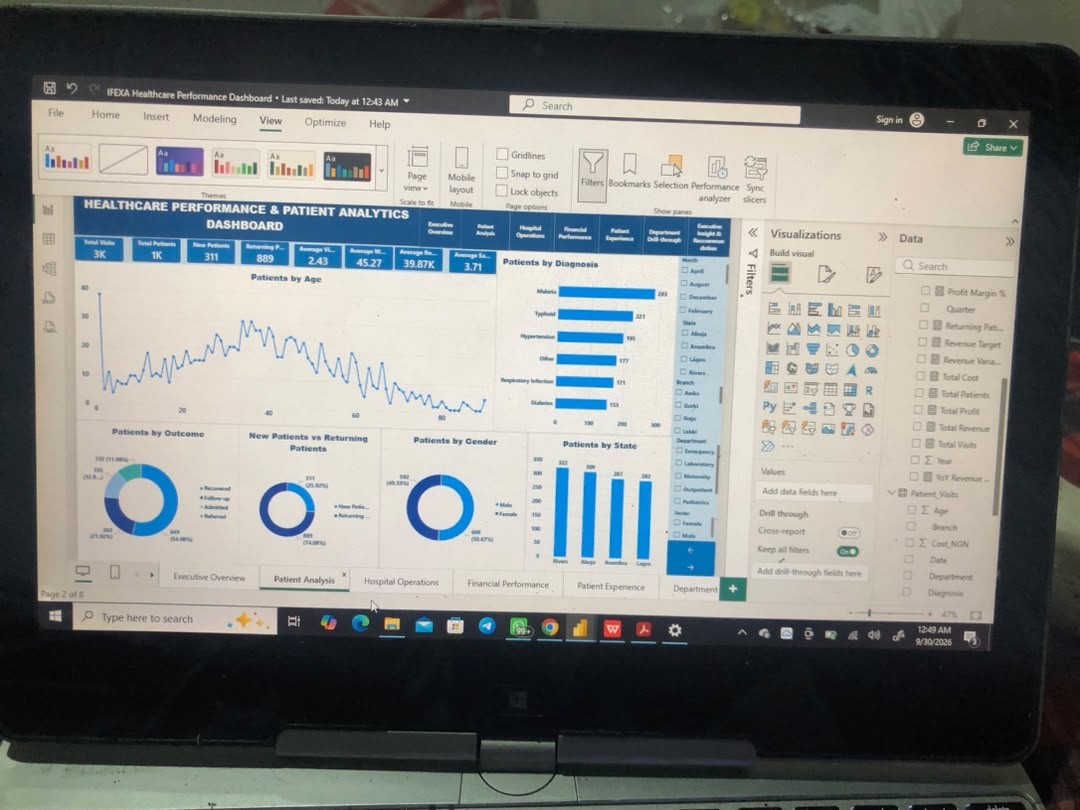

The dashboard page shown, as its layout file describes it:
{"tool":"powerbi","page":{"name":"Patient Analysis","canvas":[1920,1080],"ordinal":1},"visuals":[{"type":"lineChart","title":" Patients by Age","fields":{"Category":["Patient_Visits.Age"],"Y":["Date_Table.Total Patients"]},"box":[0,187.5,1232.5,467.5],"z":0},{"type":"donutChart","title":"Patients by Gender","fields":{"Category":["Patient_Visits.Gender"],"Y":["Date_Table.Total Patients"]},"box":[899.3,654.8,438,425.2],"z":1000},{"type":"clusteredBarChart","title":"Patients by Diagnosis","fields":{"Category":["Patient_Visits.Diagnosis"],"Y":["Date_Table.Total Patients"]},"box":[1232.5,115,540,540],"z":2000},{"type":"clusteredColumnChart","title":"Patients by State","fields":{"Category":["Patient_Visits.State"],"Y":["Date_Table.Total Patients"]},"box":[1337.2,654.8,435.8,425.2],"z":3000},{"type":"donutChart","title":"New Patients vs Returning Patients","fields":{"Y":["Date_Table.New Patients","Date_Table.Returning Patients"]},"box":[469.8,654.8,429.4,425.2],"z":4000},{"type":"cardVisual","fields":{"Data":["Date_Table.Average Visits per Patient"]},"box":[637.5,117.5,142.4,70.2],"z":5000},{"type":"donutChart","title":"Patients by Outcome","fields":{"Category":["Patient_Visits.Outcome"],"Y":["Date_Table.Total Patients"]},"box":[0,654.8,483,426],"z":6000},{"type":"pageNavigator","box":[1002.5,0,917.5,115],"z":7000},{"type":"cardVisual","fields":{"Data":["Date_Table.Total Patients"]},"box":[165,112.5,144.9,73.5],"z":8000},{"type":"cardVisual","fields":{"Data":["Date_Table.Total Visits"]},"box":[0,115,144.9,73.5],"z":9000},{"type":"cardVisual","fields":{"Data":["Date_Table.Average Waiting Time"]},"box":[785,115,144.9,71.4],"z":10000},{"type":"cardVisual","fields":{"Data":["Date_Table.Average Revenue Per Patient"]},"box":[930,115,144.6,70.2],"z":11000},{"type":"cardVisual","fields":{"Data":["Date_Table.Average Satisfaction"]},"box":[1090,117.5,142.4,70.2],"z":12000},{"type":"cardVisual","fields":{"Data":["Date_Table.New Patients"]},"box":[325,112.5,144.6,72.3],"z":13000},{"type":"cardVisual","fields":{"Data":["Date_Table.Returning Patients"]},"box":[482.5,112.5,144.6,72.3],"z":14000},{"type":"slicer","fields":{"Values":["Patient_Visits.State"]},"box":[1783,300,136.2,178.7],"z":15000},{"type":"slicer","fields":{"Values":["Date_Table.Month"]},"box":[1772.5,115,147.5,185],"z":16000},{"type":"slicer","fields":{"Values":["Patient_Visits.Branch"]},"box":[1773.1,478.3,146.7,176.5],"z":17000},{"type":"slicer","fields":{"Values":["Patient_Visits.Department"]},"box":[1780.9,655.3,138.3,208.5],"z":18000},{"type":"slicer","fields":{"Values":["Patient_Visits.Gender"]},"box":[1783.7,880.2,127.6,91.4],"z":19000},{"type":"actionButton","box":[1773.1,1026.9,146.7,53.1],"z":20000},{"type":"textbox","box":[0,0,1002.5,112.5],"z":21000},{"type":"actionButton","box":[1773.1,971.6,146.7,57.4],"z":22000}]}

Visuals, with their boxes on the page's 1920x1080 design canvas (x1, y1, x2, y2). These are canvas units, not pixel positions in the 1080x810 screenshot, which may show the page scaled, cropped or inside an application window:
" Patients by Age" lineChart: bbox=(0, 188, 1232, 655)
"Patients by Gender" donutChart: bbox=(899, 655, 1337, 1080)
"Patients by Diagnosis" clusteredBarChart: bbox=(1232, 115, 1772, 655)
"Patients by State" clusteredColumnChart: bbox=(1337, 655, 1773, 1080)
"New Patients vs Returning Patients" donutChart: bbox=(470, 655, 899, 1080)
cardVisual - Date_Table.Average Visits per Patient: bbox=(638, 118, 780, 188)
"Patients by Outcome" donutChart: bbox=(0, 655, 483, 1081)
pageNavigator: bbox=(1002, 0, 1920, 115)
cardVisual - Date_Table.Total Patients: bbox=(165, 112, 310, 186)
cardVisual - Date_Table.Total Visits: bbox=(0, 115, 145, 188)
cardVisual - Date_Table.Average Waiting Time: bbox=(785, 115, 930, 186)
cardVisual - Date_Table.Average Revenue Per Patient: bbox=(930, 115, 1075, 185)
cardVisual - Date_Table.Average Satisfaction: bbox=(1090, 118, 1232, 188)
cardVisual - Date_Table.New Patients: bbox=(325, 112, 470, 185)
cardVisual - Date_Table.Returning Patients: bbox=(482, 112, 627, 185)
slicer - Patient_Visits.State: bbox=(1783, 300, 1919, 479)
slicer - Date_Table.Month: bbox=(1772, 115, 1920, 300)
slicer - Patient_Visits.Branch: bbox=(1773, 478, 1920, 655)
slicer - Patient_Visits.Department: bbox=(1781, 655, 1919, 864)
slicer - Patient_Visits.Gender: bbox=(1784, 880, 1911, 972)
actionButton: bbox=(1773, 1027, 1920, 1080)
textbox: bbox=(0, 0, 1002, 112)
actionButton: bbox=(1773, 972, 1920, 1029)
